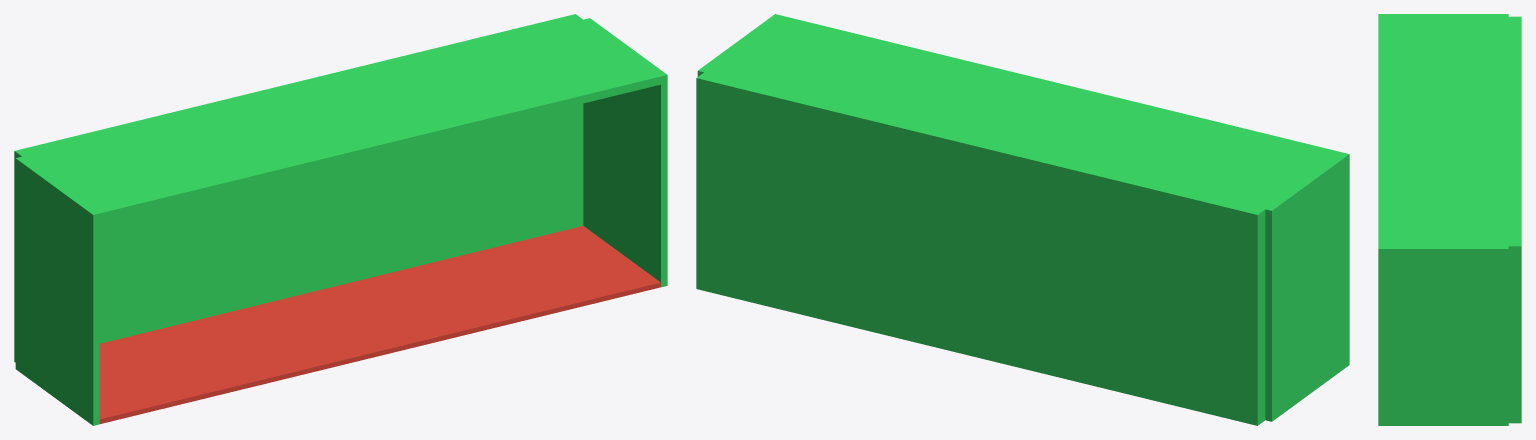
The model's file is EXTERIOR2.fbx.
The picture shows the model from 3 angles, left to right: view 1: azimuth 30°, elevation 25°; view 2: azimuth 150°, elevation 25°; view 3: azimuth 270°, elevation 25°; orthographic projection. The views are drawn at different scales.
Visible parts, largest first — view 1: Cube, Cube.046, Cube.044, Cube.045, Cube.043; view 2: Cube, Cube.046, Cube.045; view 3: Cube.046, Cube.043, Cube, Cube.045.
Part boxes in pixels (box(x1,y1,x2,y2)): Cube: box(14, 14, 583, 362); Cube.046: box(22, 19, 660, 221); Cube.044: box(99, 226, 660, 423); Cube.045: box(15, 156, 99, 425); Cube.043: box(583, 18, 667, 287); Cube: box(696, 72, 1265, 425); Cube.046: box(704, 15, 1342, 209); Cube.045: box(1265, 152, 1349, 421); Cube.046: box(1378, 16, 1508, 246); Cube.043: box(1378, 246, 1508, 425); Cube: box(1508, 16, 1521, 423); Cube.045: box(1378, 14, 1508, 16).
Bounding box in the file's own units: 1709 × 600 × 440.
